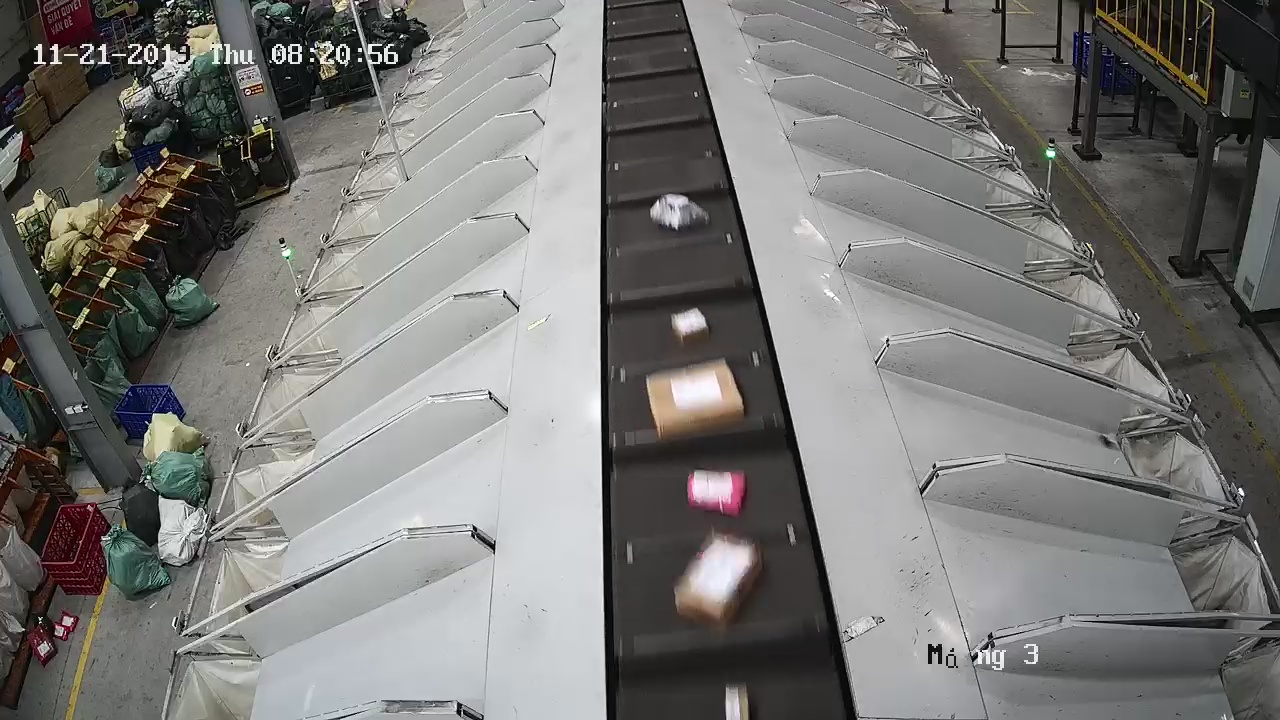parcel: (645, 355, 747, 441), (685, 467, 749, 522)
